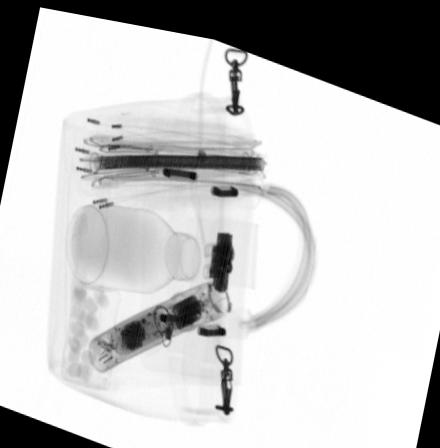Baton: (85, 271, 233, 369)
